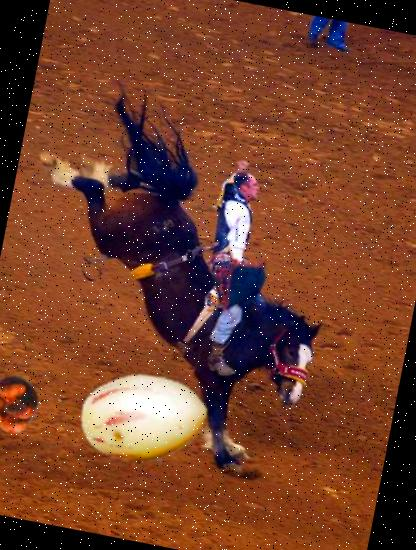Mangostan: (0, 370, 47, 440)
Pepino: (68, 344, 218, 494)
